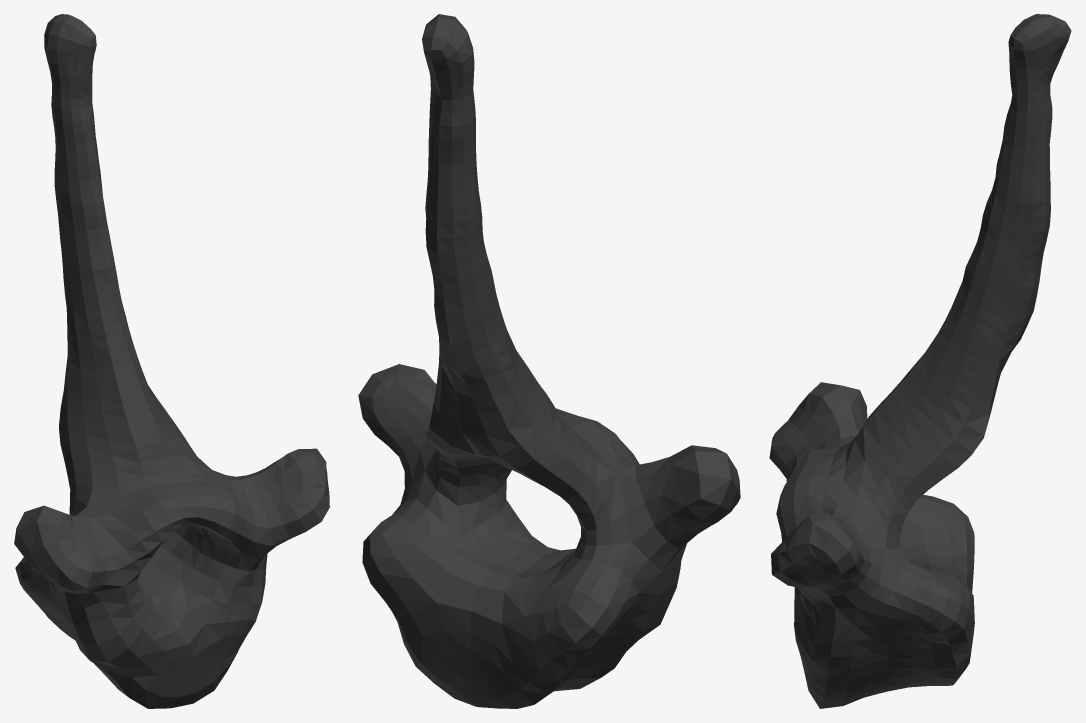
The picture shows the model from 3 angles, left to right: view 1: azimuth 30°, elevation 25°; view 2: azimuth 150°, elevation 25°; view 3: azimuth 270°, elevation 25°; orthographic projection. The views are drawn at different scales.
Parts seen in each view (by area): view 1: T5; view 2: T5; view 3: T5.
Boxes of the visible parts, bbox=[...] form: T5: bbox=[14, 14, 329, 708]; T5: bbox=[358, 14, 740, 708]; T5: bbox=[769, 14, 1071, 708].
Size of the model in its own units: 2.18 by 4.23 by 1.71.
Materials: 1 (1 with a texture image).
